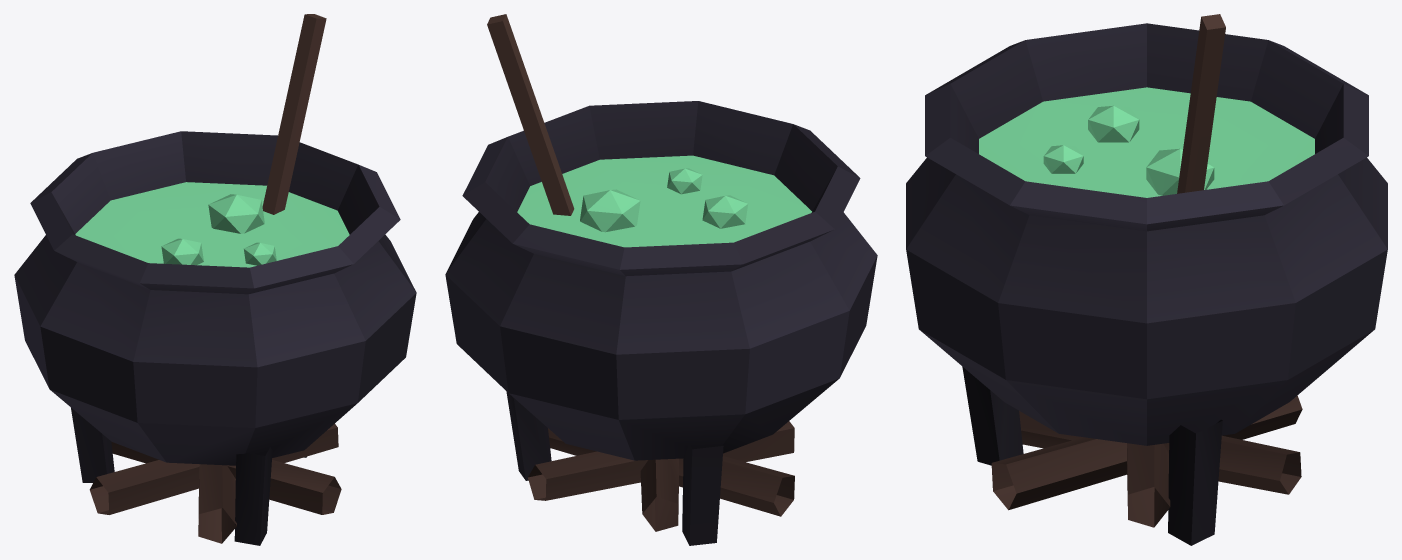
Rendered from Haunted_Cauldron.fbx.
3 renders of one model, left to right at view 1: azimuth 30°, elevation 25°; view 2: azimuth 150°, elevation 25°; view 3: azimuth 270°, elevation 25°, orthographic. The views are drawn at different scales.
Parts seen in each view (by area): view 1: Haunted_Cauldron; view 2: Haunted_Cauldron; view 3: Haunted_Cauldron.
Boxes of the visible parts, x1,y1,x2,y2 form: Haunted_Cauldron: (14, 14, 416, 545); Haunted_Cauldron: (445, 14, 877, 545); Haunted_Cauldron: (906, 14, 1387, 545).
Bounding box in the file's own units: 1.52 × 1.77 × 1.45.
